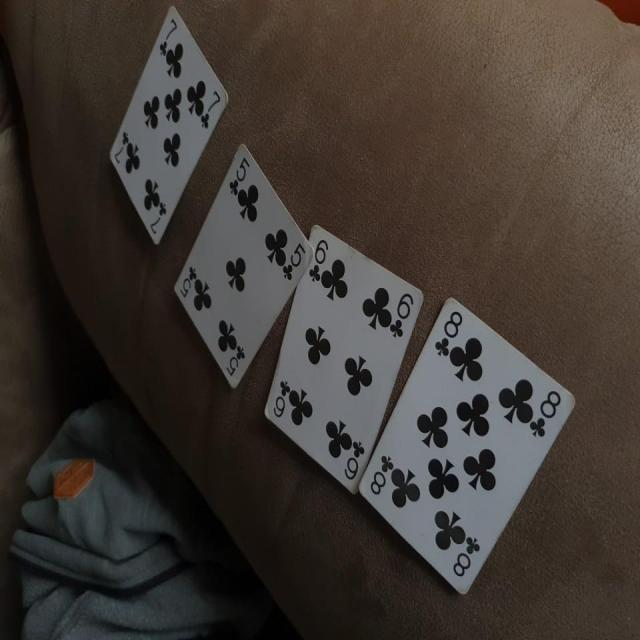5 Trefoils: (171, 144, 315, 389)
6 Trefoils: (261, 222, 424, 497)
7 Trefoils: (106, 2, 229, 250)
8 Trefoils: (357, 298, 577, 597)
